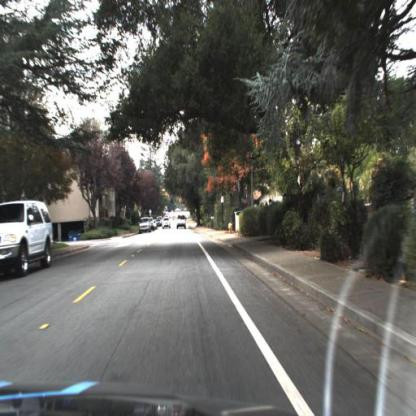car: (1, 198, 56, 280), (137, 214, 152, 236), (176, 210, 190, 233), (162, 219, 172, 231)
